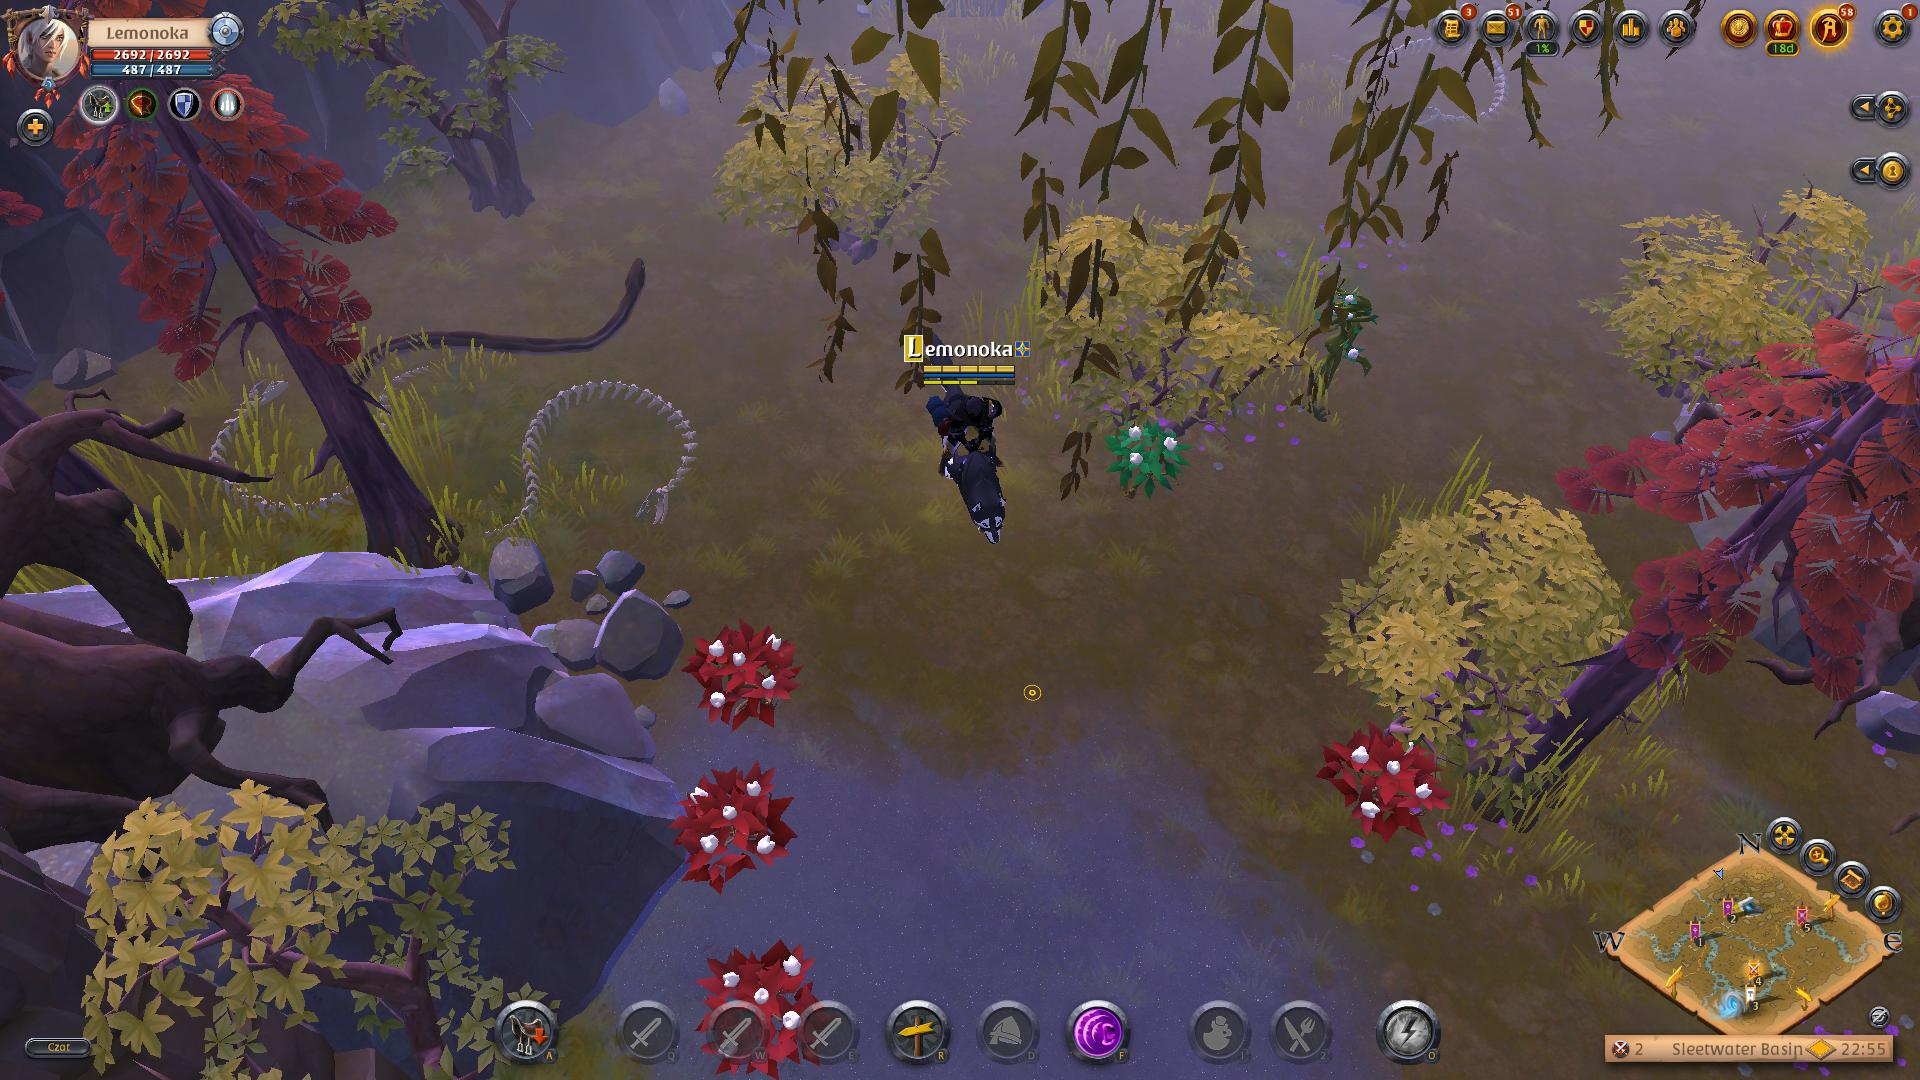fiber tier 3: (1110, 419, 1188, 500)
fiber tier 5: (667, 764, 800, 903), (1319, 725, 1452, 848), (690, 625, 803, 731)
